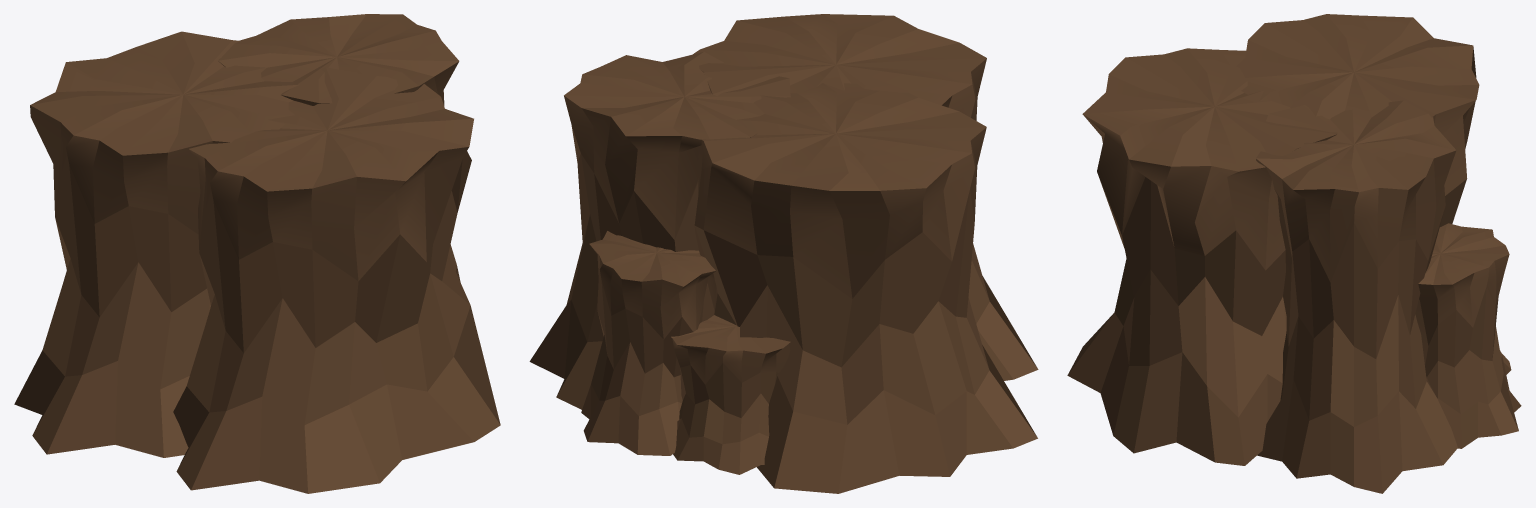
Rendered from cliff.fbx.
The picture shows the model from 3 angles, left to right: view 1: azimuth 30°, elevation 25°; view 2: azimuth 150°, elevation 25°; view 3: azimuth 270°, elevation 25°; orthographic projection. The views are drawn at different scales.
Visible parts, largest first — view 1: pCylinder3, pCylinder2, pCylinder1; view 2: pCylinder2, pCylinder1, pCylinder3, pCylinder4, pCylinder5; view 3: pCylinder3, pCylinder1, pCylinder2, pCylinder4.
Boxes of the visible parts, box(x1,y1,x2,y2) form: pCylinder3: box(173, 67, 500, 493); pCylinder2: box(14, 31, 299, 457); pCylinder1: box(218, 14, 460, 281); pCylinder2: box(694, 83, 1037, 493); pCylinder1: box(529, 52, 790, 409); pCylinder3: box(693, 14, 1038, 380); pCylinder4: box(581, 231, 717, 455); pCylinder5: box(671, 315, 790, 474); pCylinder3: box(1067, 48, 1337, 465); pCylinder1: box(1256, 100, 1457, 493); pCylinder2: box(1236, 14, 1479, 226); pCylinder4: box(1415, 223, 1521, 448).
Bounding box in the file's own units: 1682 × 1062 × 1470.
